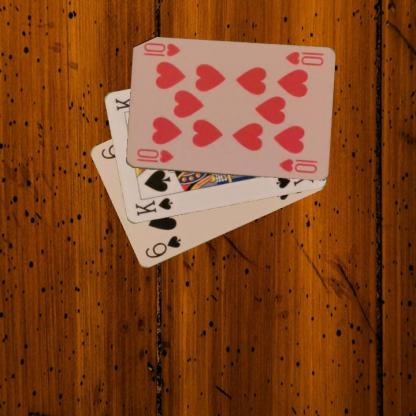10h: (282, 49, 324, 68), (134, 146, 174, 164)
6s: (142, 233, 182, 260)
Ks: (132, 196, 174, 218)
